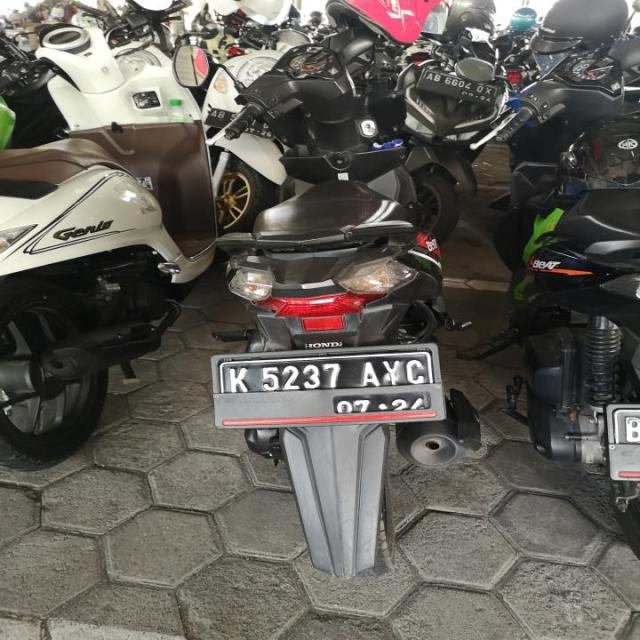License Plate: (219, 348, 434, 424), (415, 66, 499, 108)
